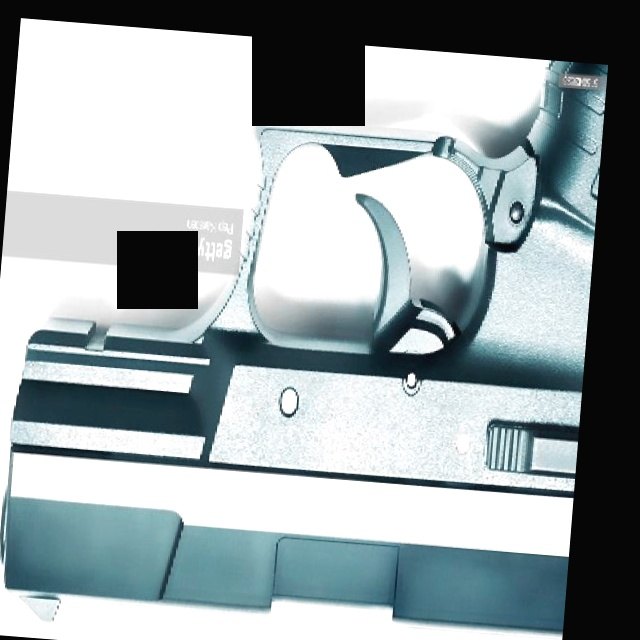gun: (0, 22, 607, 640)
